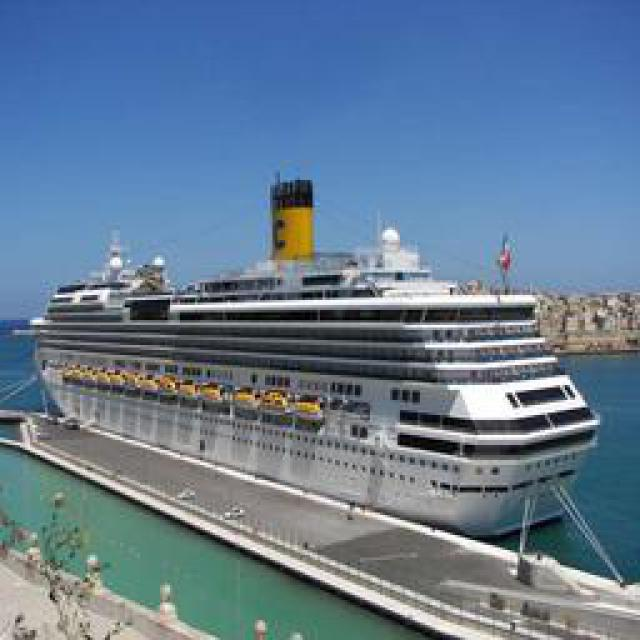Ship: (25, 204, 613, 569)
